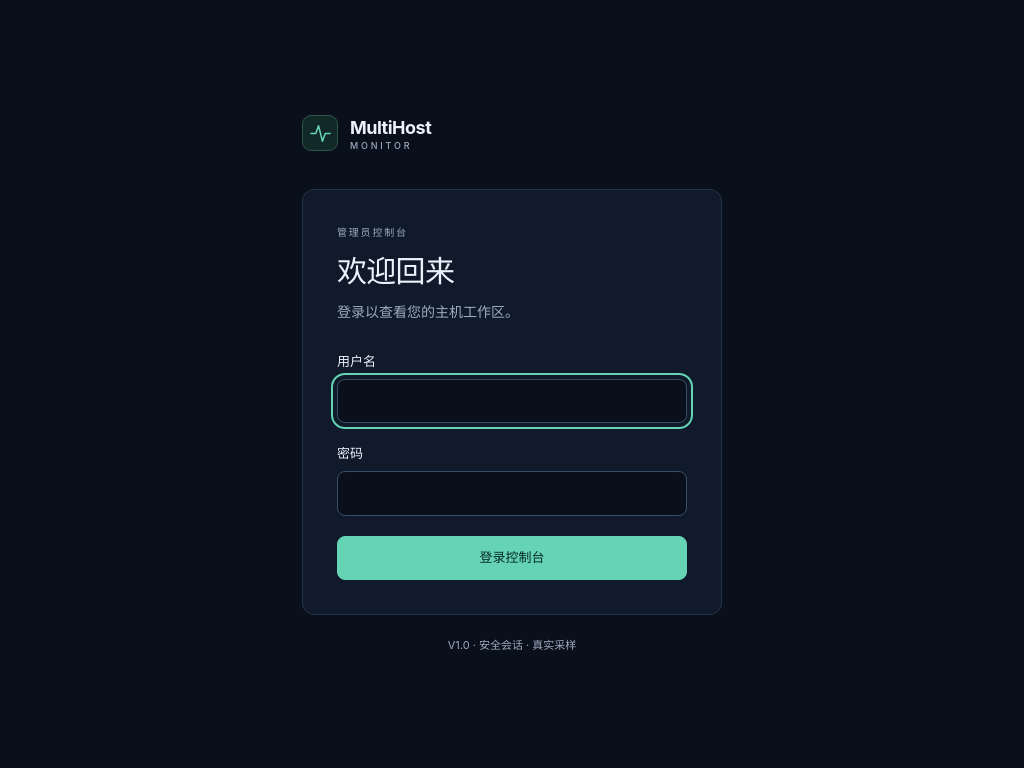
Scenario: login, truthful empty state and CSRF logout
Type "admin" into the field labelled "用户名" at [512, 401], box [337,379,687,424]
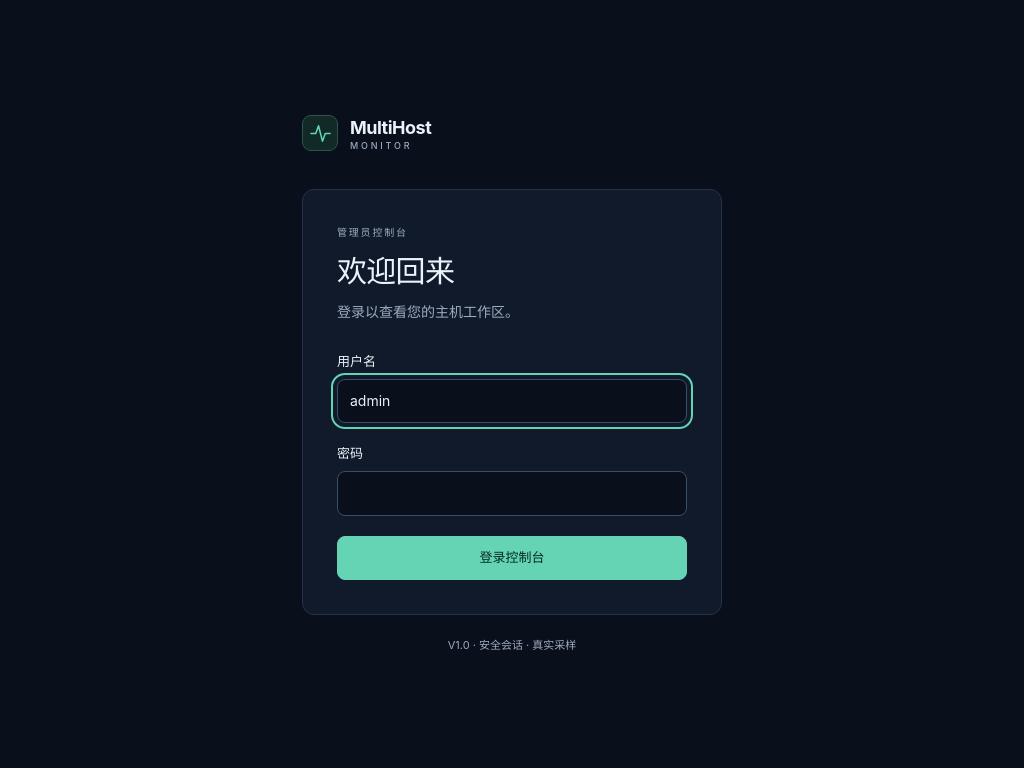
Type "password" into the password field labelled "密码" at [512, 494], box [337,471,687,516]
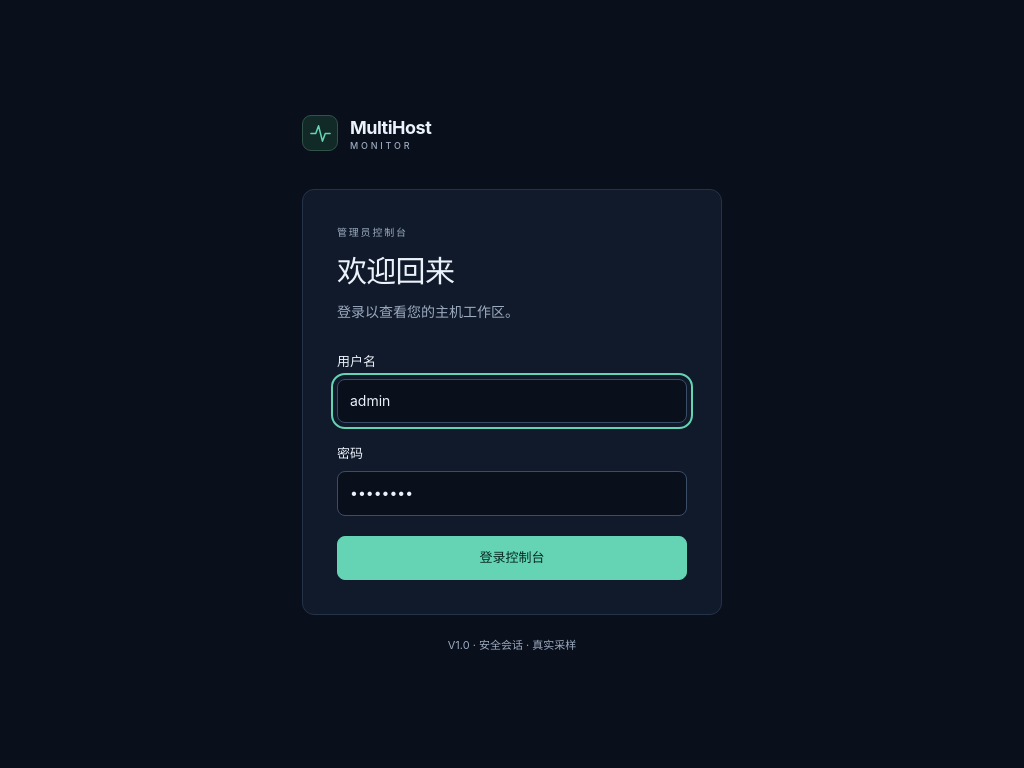
Click the button "登录控制台" at [512, 558], box [337,536,687,580]
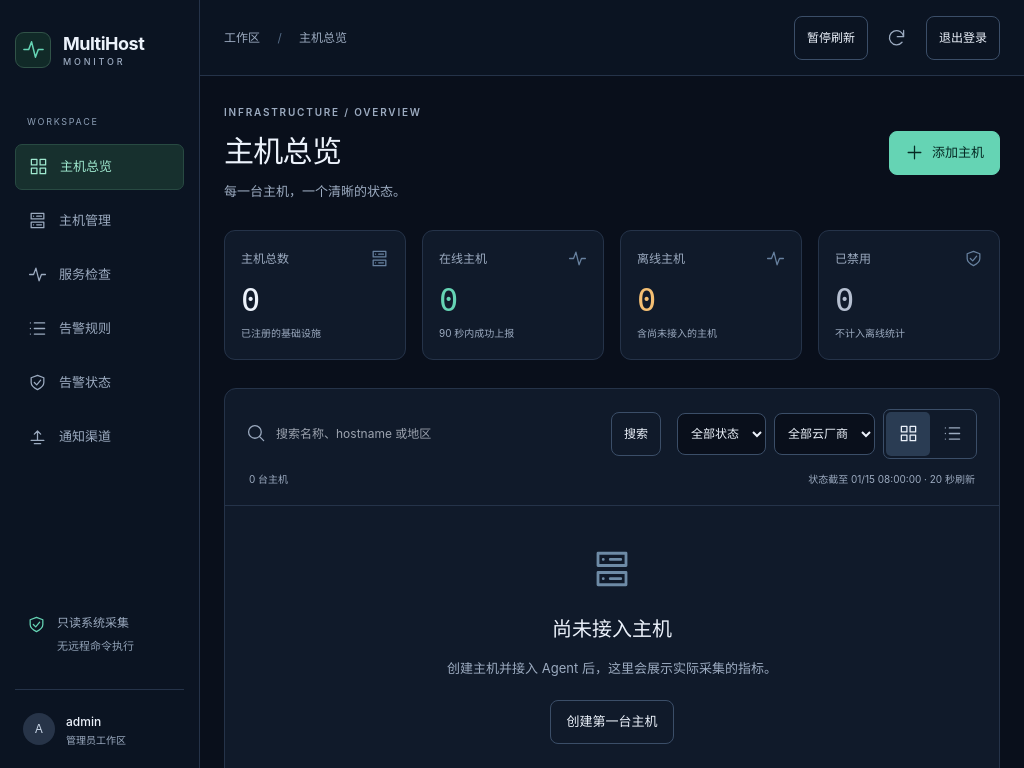
Expected: the heading "尚未接入主机" is shown, [552,613,672,645]
Click the button "退出登录" at [963, 38], box [926,16,1000,60]
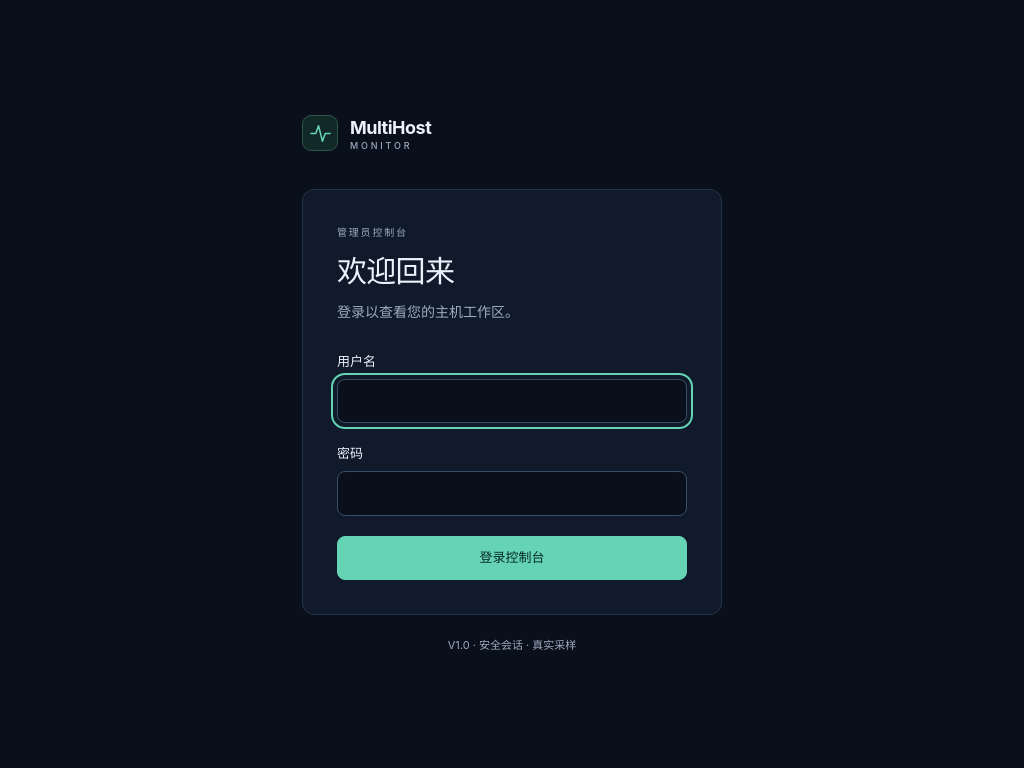
Expected: the heading "欢迎回来" is shown, [337,253,454,289]
